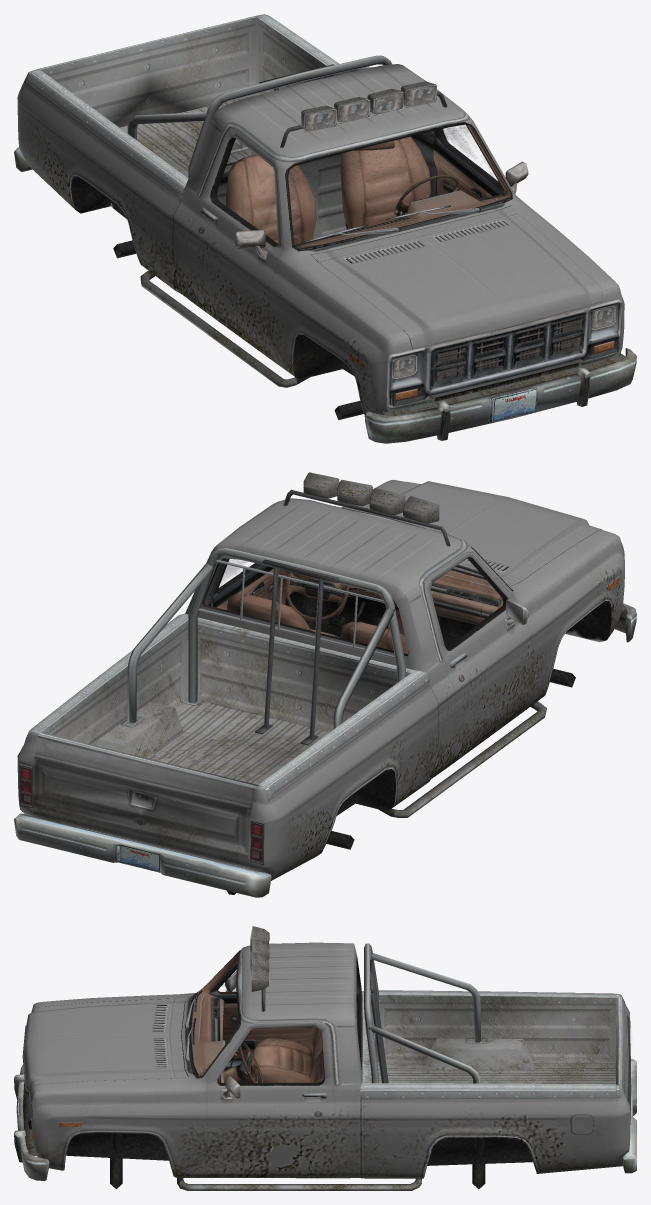
File: PickUpBody.fbx
The picture shows the model from 3 angles, top to bottom: view 1: azimuth 30°, elevation 25°; view 2: azimuth 150°, elevation 25°; view 3: azimuth 270°, elevation 25°; orthographic projection. The views are drawn at different scales.
Visible parts, largest first — view 1: default; view 2: default; view 3: default.
Part boxes in pixels (bbox=[...]): default: bbox=[14, 14, 636, 443]; default: bbox=[14, 472, 636, 897]; default: bbox=[14, 926, 636, 1190].
Bounding box in the file's own units: 456 × 367 × 1032.
Materials: 3 (3 with a texture image).
